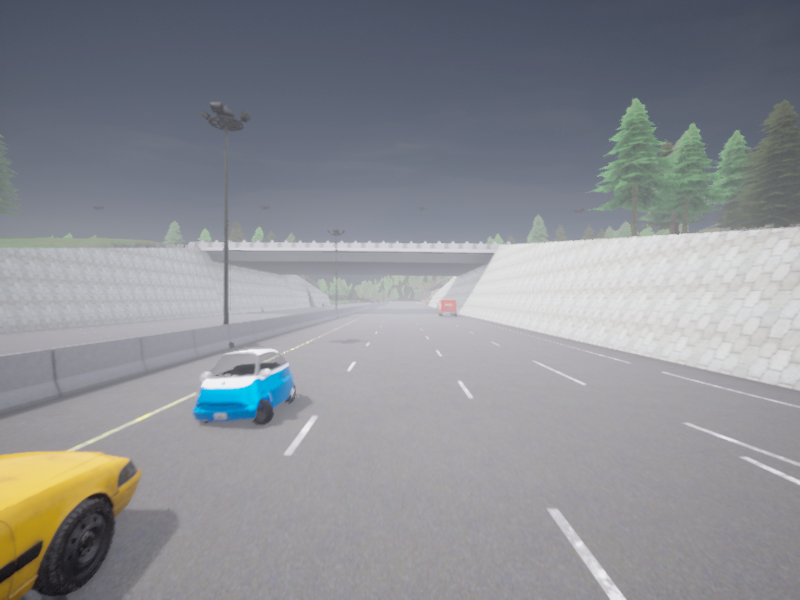vehicle: (0, 451, 141, 599), (192, 349, 294, 423), (437, 300, 456, 315)
